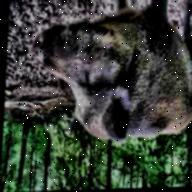boar: (13, 0, 192, 154)
